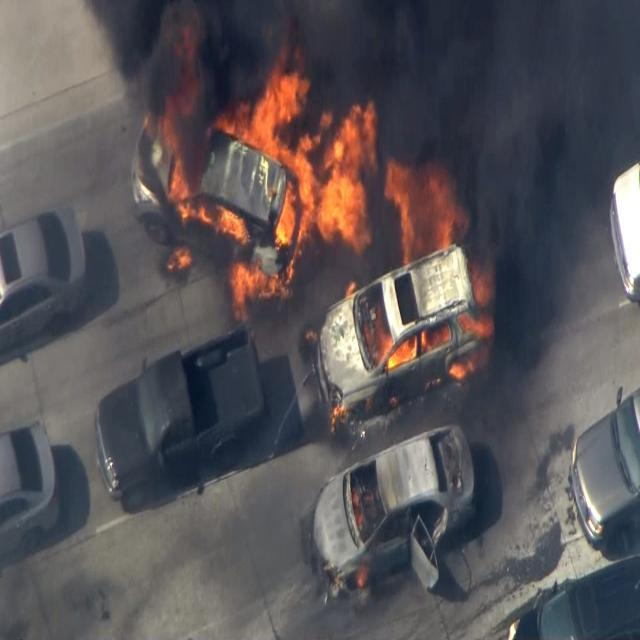Fire: (197, 56, 379, 250), (385, 161, 470, 269), (150, 108, 196, 224), (448, 268, 496, 377), (229, 258, 294, 326), (386, 324, 426, 372), (164, 246, 193, 274)
Smoke: (99, 0, 640, 361)
